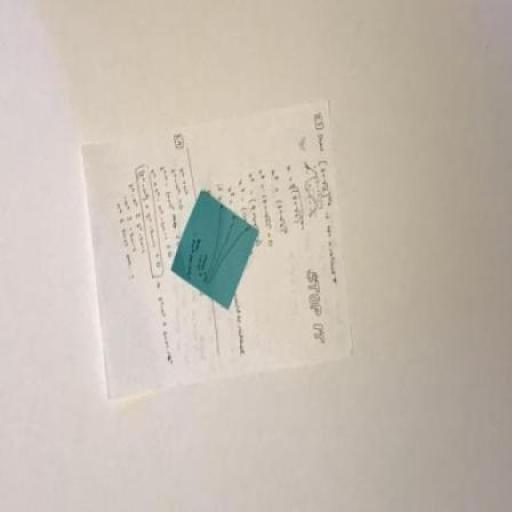paper: (60, 94, 354, 396)
